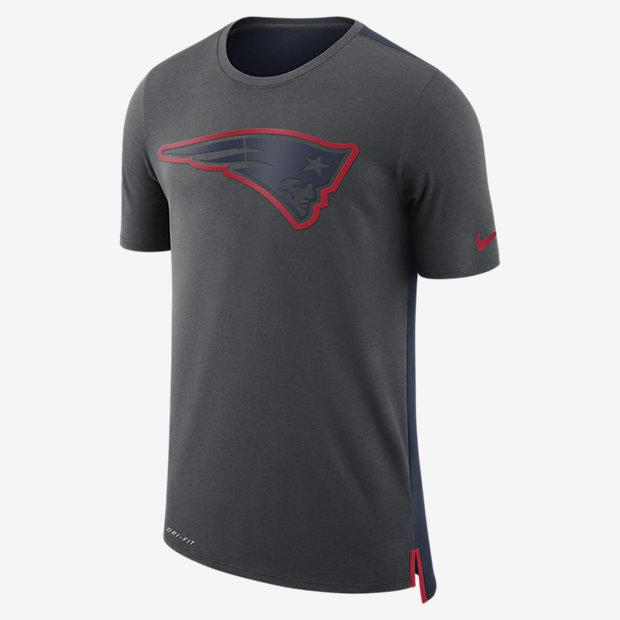teeshirt: (82, 10, 515, 608)
